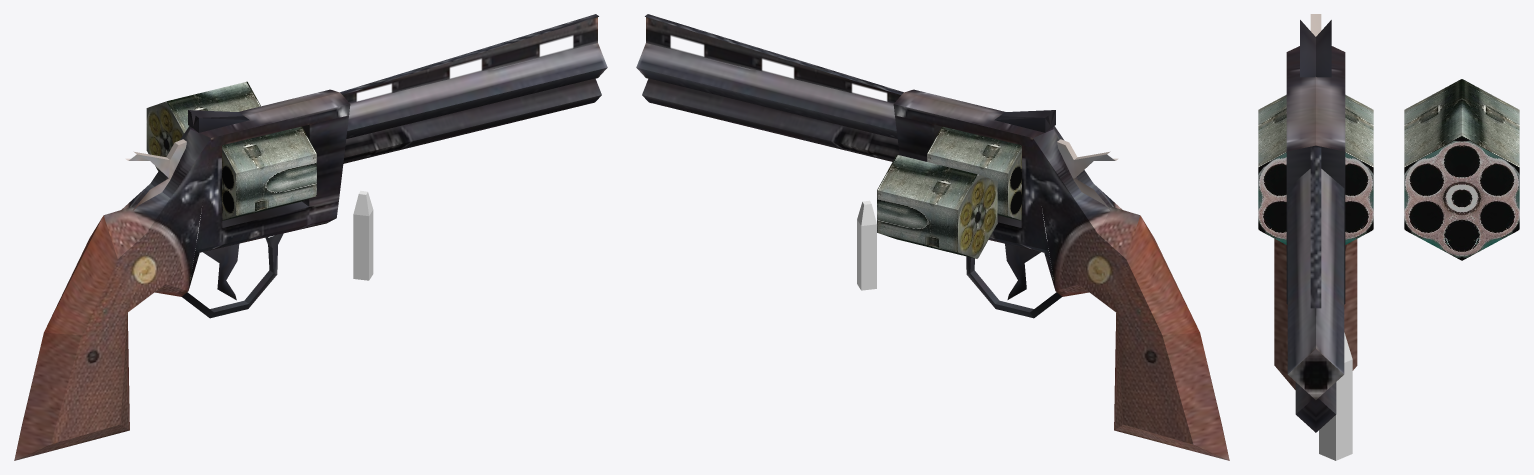
The picture shows the model from 3 angles, left to right: view 1: azimuth 30°, elevation 25°; view 2: azimuth 150°, elevation 25°; view 3: azimuth 270°, elevation 25°; orthographic projection. The views are drawn at different scales.
Parts seen in each view (by area): view 1: CPBody, CPCyilnder, CPCyilnderFull, CPTrigger&Hammer, CPBullet; view 2: CPBody, CPCyilnderFull, CPCyilnder, CPTrigger&Hammer, CPBullet; view 3: CPBody, CPCyilnderFull, CPCyilnder, CPBullet.
Boxes of the visible parts, x1,y1,x2,y2 form: CPBody: (14, 14, 607, 460); CPCyilnder: (222, 126, 316, 220); CPCyilnderFull: (146, 81, 260, 171); CPTrigger&Hammer: (125, 139, 239, 300); CPBullet: (353, 190, 373, 280); CPBody: (636, 14, 1229, 460); CPCyilnderFull: (877, 154, 997, 258); CPCyilnder: (927, 126, 1021, 220); CPTrigger&Hammer: (1005, 139, 1118, 299); CPBullet: (857, 200, 876, 290); CPBody: (1274, 20, 1357, 432); CPCyilnderFull: (1404, 79, 1519, 260); CPCyilnder: (1258, 94, 1373, 244); CPBullet: (1319, 332, 1352, 460).
Bounding box in the file's own units: 3.18 × 1.58 × 0.8425.
5 materials, 4 textured.
